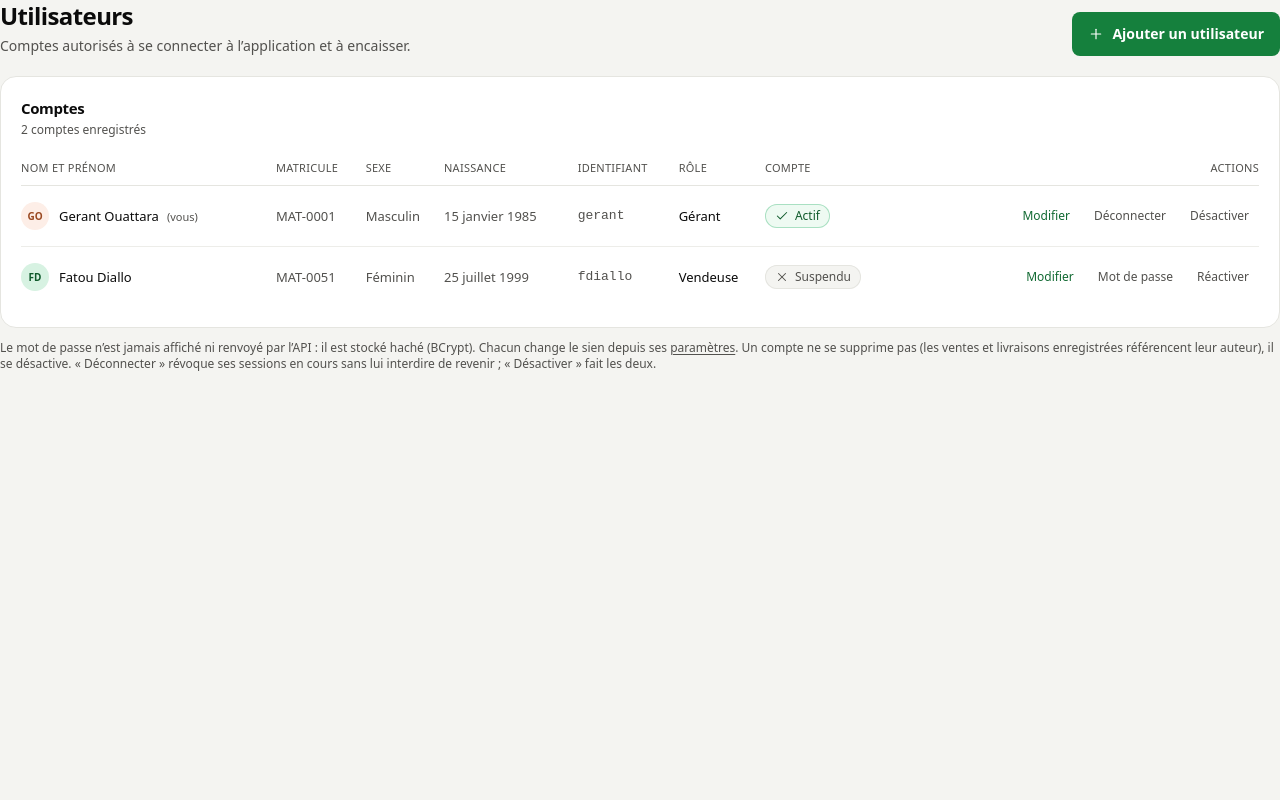
it: accessibilité de l'écran Utilisateurs › ne présente aucune infraction, modale de mot de passe ouverte
The width and height of the screenshot is (1280, 800).
Expected: the text "Fatou Diallo" is shown, [59, 268, 132, 286]
Click the button with aria-label "réinitialiser le mot de passe de Fatou Diallo".
click(1135, 277)  # box [1088, 259, 1183, 295]
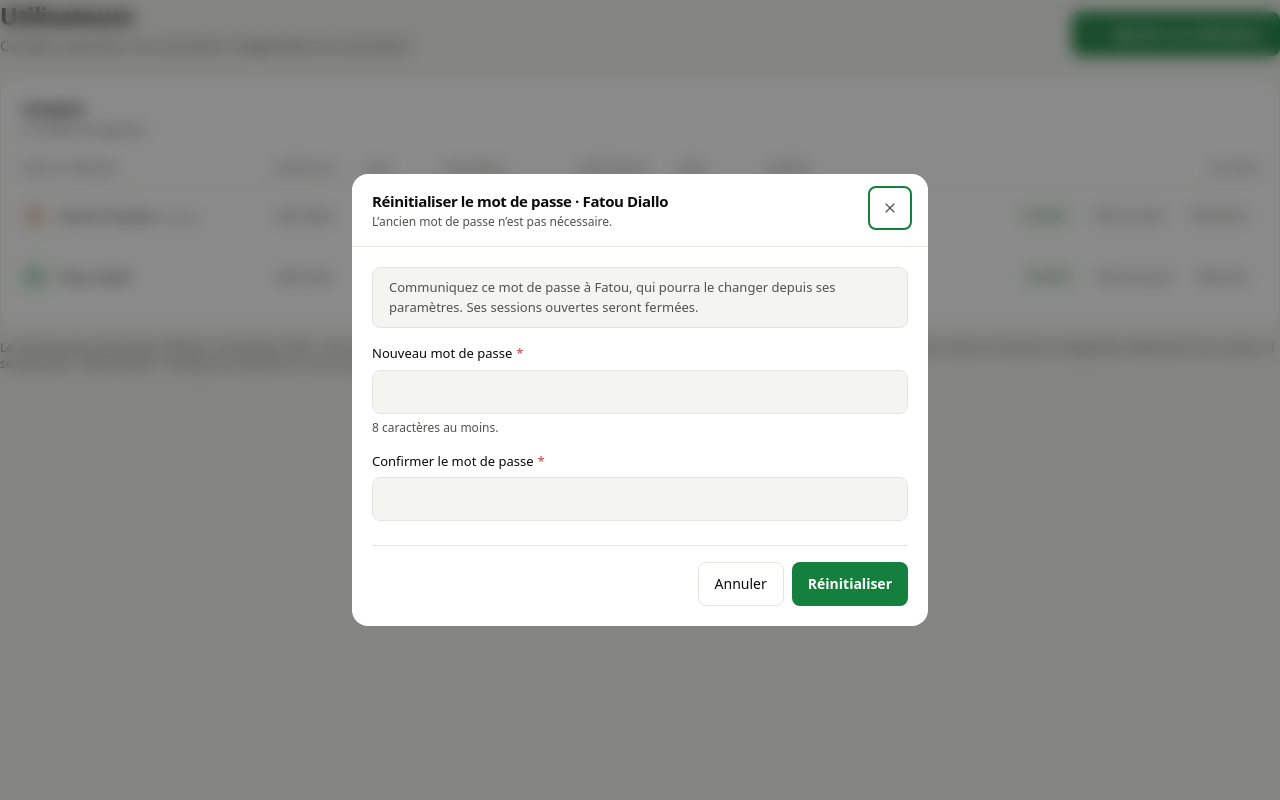
Expected: the dialog is shown, [352, 174, 928, 626]
